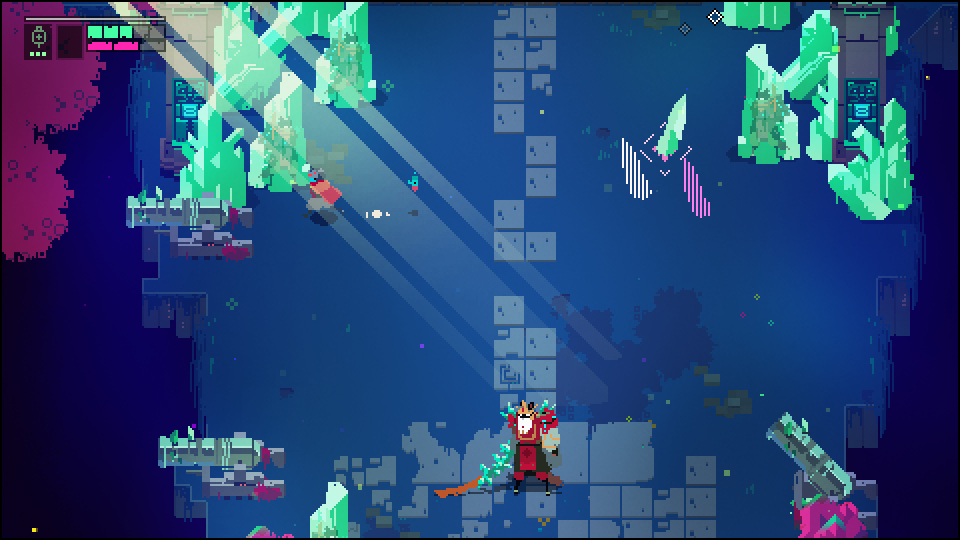hanged_crys: (618, 136, 648, 201), (655, 94, 686, 154), (682, 159, 714, 216)
hanged_man: (470, 396, 564, 501)
player: (301, 168, 343, 222)
